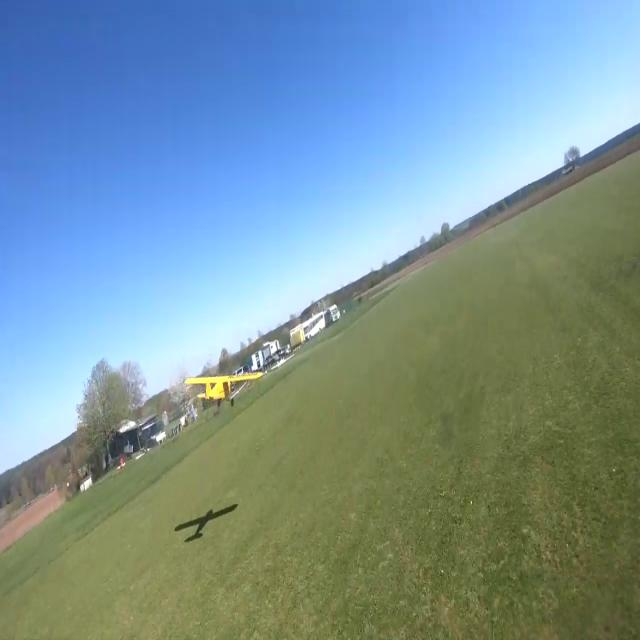iha: (220, 370, 224, 407)
